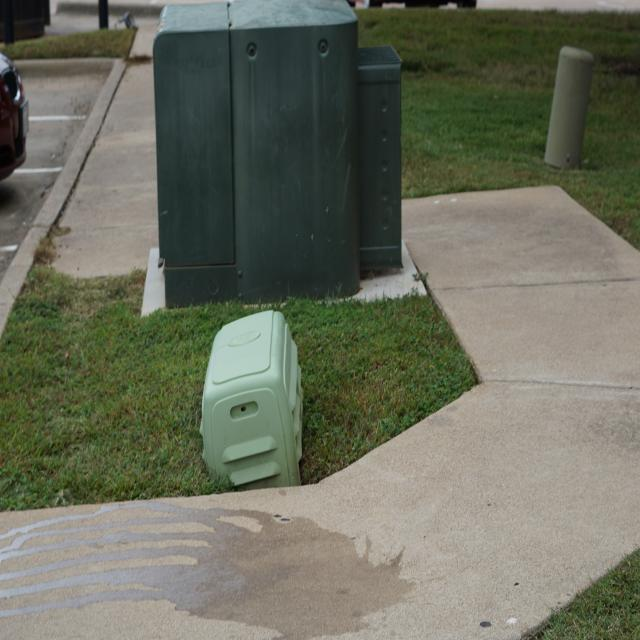Automobile: (0, 53, 29, 181)
Obstacle: (153, 0, 407, 309), (201, 310, 302, 486), (546, 47, 592, 167)
Road: (0, 59, 115, 247)
Sidewalk: (0, 187, 640, 638), (53, 59, 158, 277)
